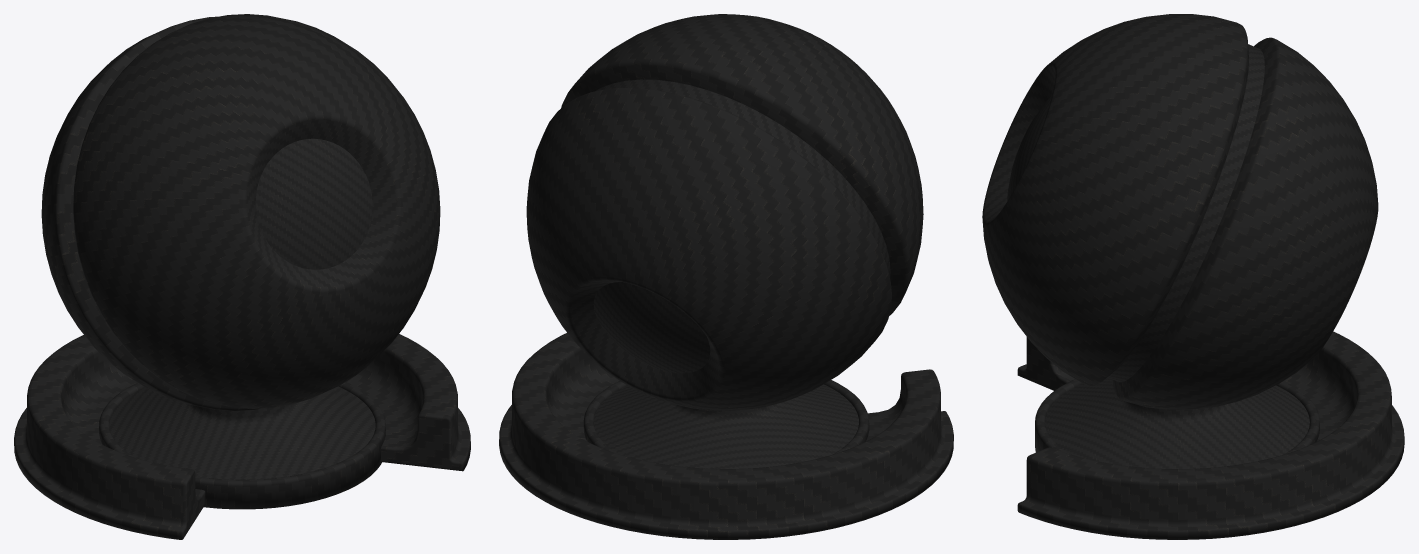
The model's file is material_carbon_fiber.glb.
3 renders of one model, left to right at view 1: azimuth 30°, elevation 25°; view 2: azimuth 150°, elevation 25°; view 3: azimuth 270°, elevation 25°, orthographic.
Visible parts, largest first — view 1: carbon_fiber; view 2: carbon_fiber; view 3: carbon_fiber.
Boxes of the visible parts, bbox=[...] form: carbon_fiber: bbox=[14, 14, 470, 539]; carbon_fiber: bbox=[499, 14, 953, 539]; carbon_fiber: bbox=[982, 14, 1404, 539].
Bounding box in the file's own units: 1.34 × 1.35 × 1.25.
Materials: 1 (1 with a texture image).
